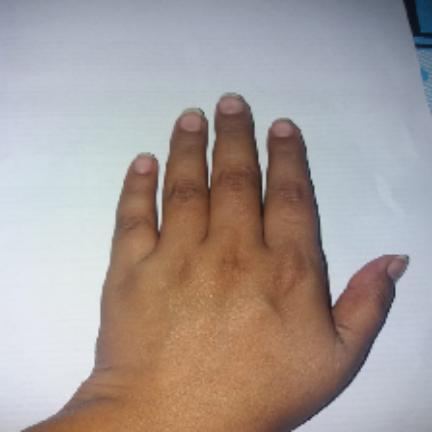Nail: (387, 254, 409, 283), (219, 93, 246, 115), (179, 108, 203, 132), (133, 152, 155, 174), (272, 117, 294, 137)
